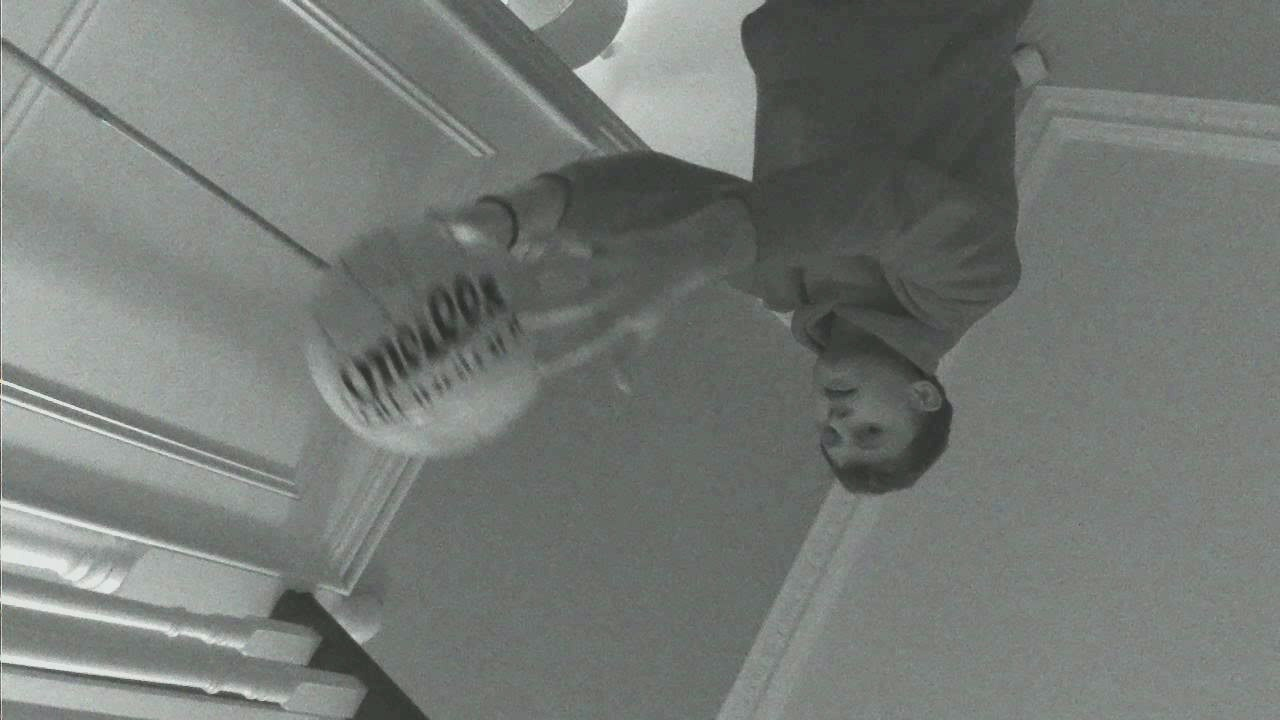Football-Spotter: (305, 221, 540, 455)
